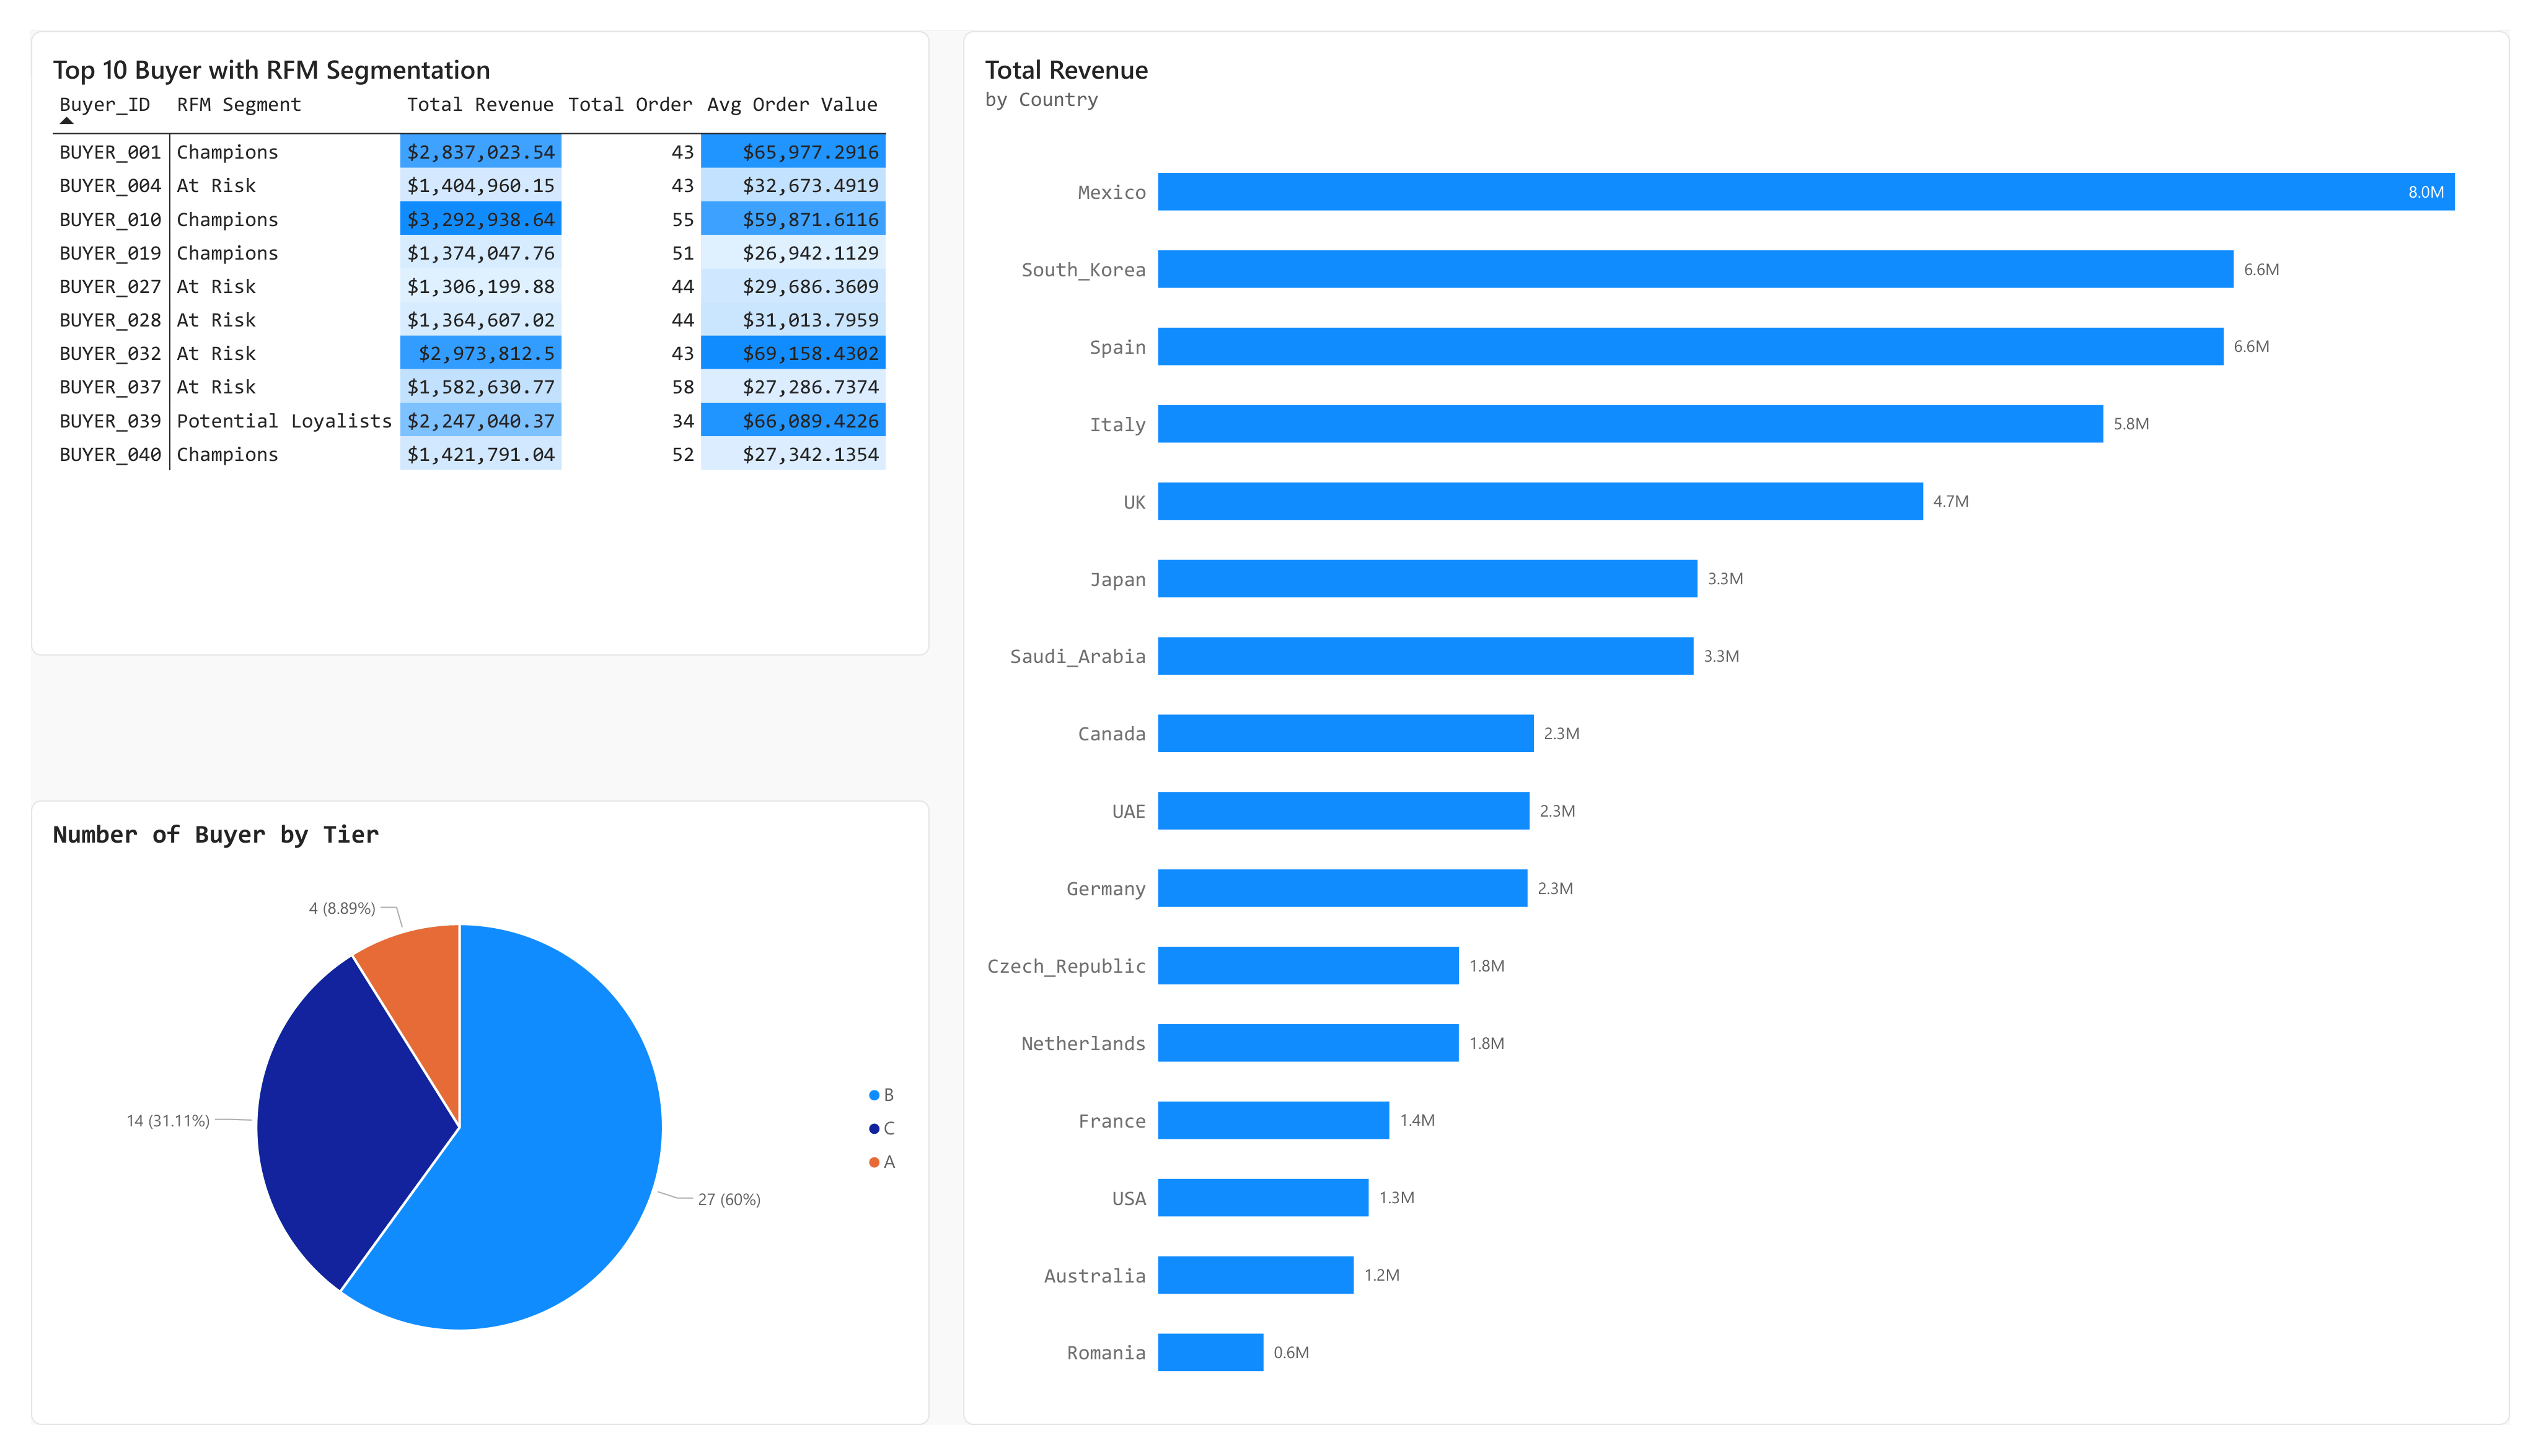

The page's visual inventory and layout, read from the dashboard file:
{"tool":"powerbi","page":{"name":"Buyer Insights","canvas":[1920,1080],"ordinal":2},"visuals":[{"type":"pivotTable","title":"Top 10 Buyer with RFM Segmentation","fields":{"Rows":["buyers.Buyer_ID"],"Values":["Min(Buyer RFM Segmentation.Segment)","Measure Table.Total Revenue","Measure Table.Total Order","Measure Table.Avg Order Value"]},"box":[0,0,696,484],"z":0},{"type":"pieChart","title":"Number of Buyer by Tier","fields":{"Category":["buyers.Tier"],"Y":["CountNonNull(buyers.Buyer_ID)"]},"box":[0,596,696,484],"z":1000},{"type":"barChart","fields":{"Category":["buyers.Country"],"Y":["Measure Table.Total Revenue"]},"box":[722,0,1198,1080],"z":2000}]}

Visuals, with their boxes on the page's 1920x1080 design canvas (x1, y1, x2, y2). These are canvas units, not pixel positions in the 2541x1456 screenshot, which may show the page scaled, cropped or inside an application window:
"Top 10 Buyer with RFM Segmentation" pivotTable: <box>0,0,696,484</box>
"Number of Buyer by Tier" pieChart: <box>0,596,696,1080</box>
barChart - buyers.Country x Measure Table.Total Revenue: <box>722,0,1920,1080</box>
